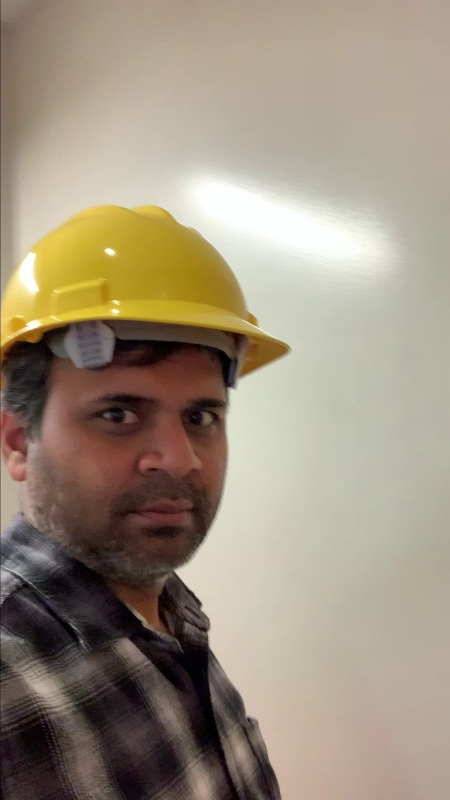helmet: (1, 199, 297, 369)
